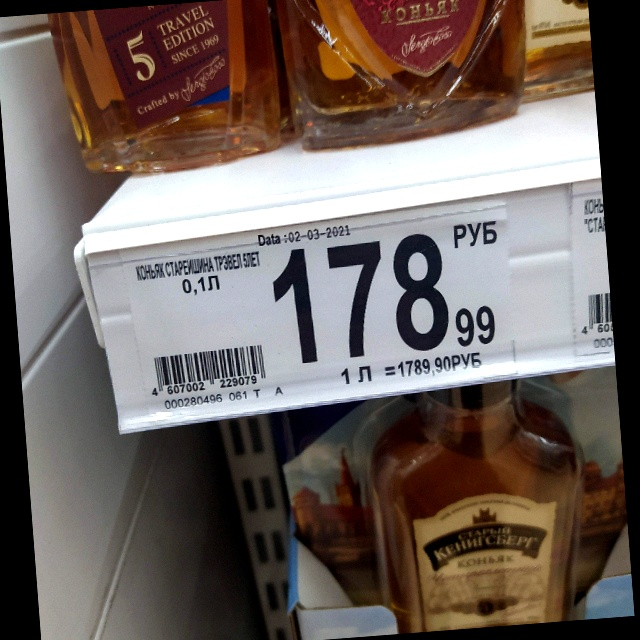barcode: (148, 344, 267, 397)
name: (132, 245, 262, 299)
price: (263, 231, 501, 365)
price_tag: (128, 201, 510, 424)
